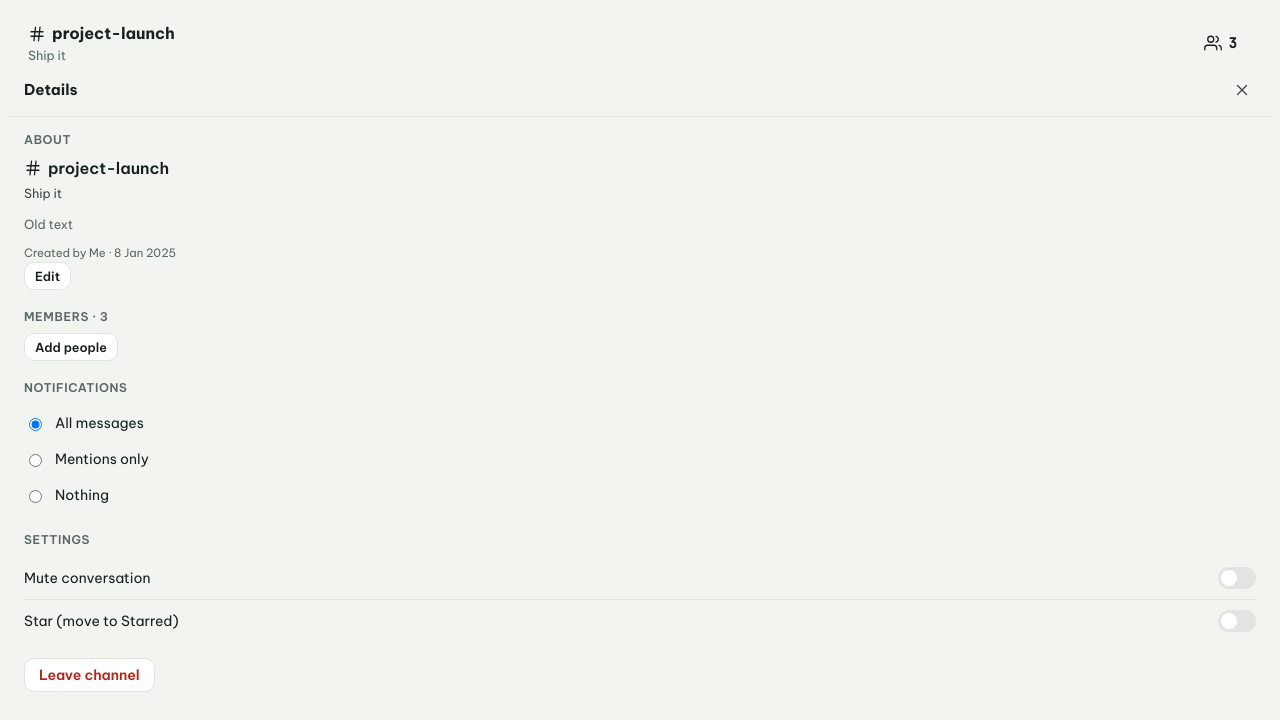
it: validation (R16) › white space only replaces a topic: sent as null
The width and height of the screenshot is (1280, 720).
Later steps or results of the test are not shown.
Click the button "Edit" at [48, 276], box [24, 262, 71, 290]
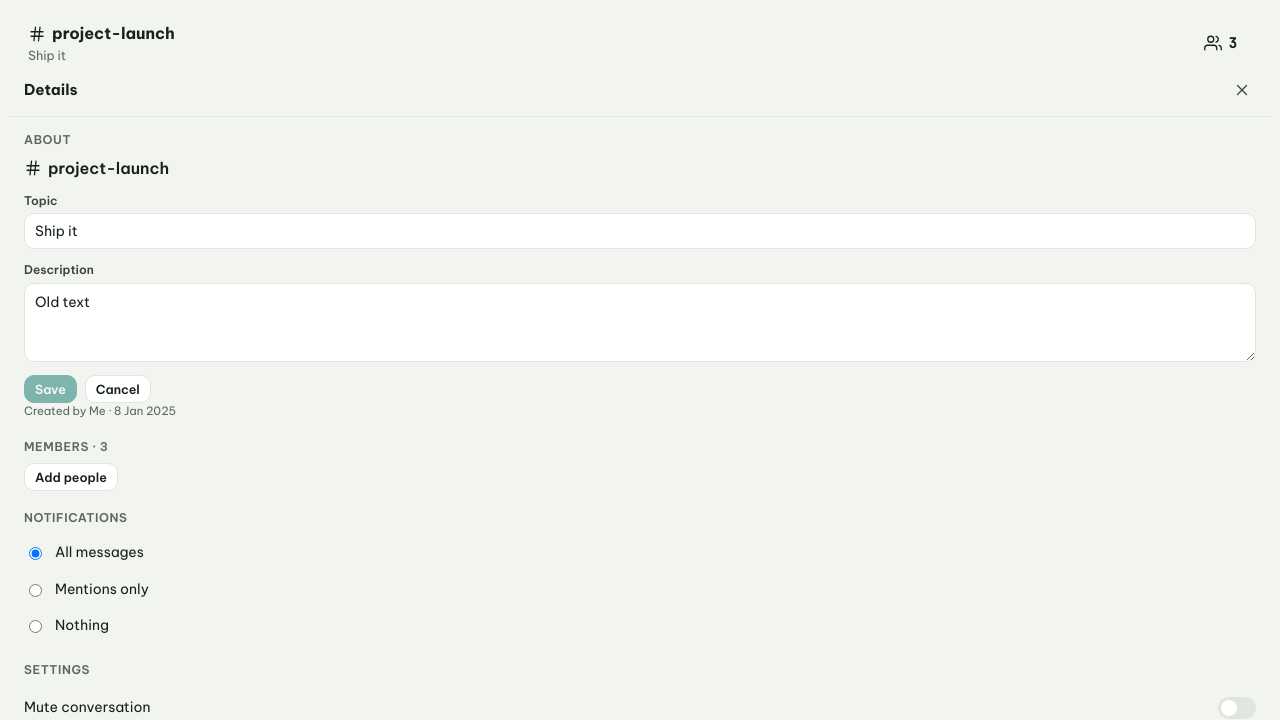
Clear the field labelled "Topic" at [640, 231], box [24, 213, 1256, 249]
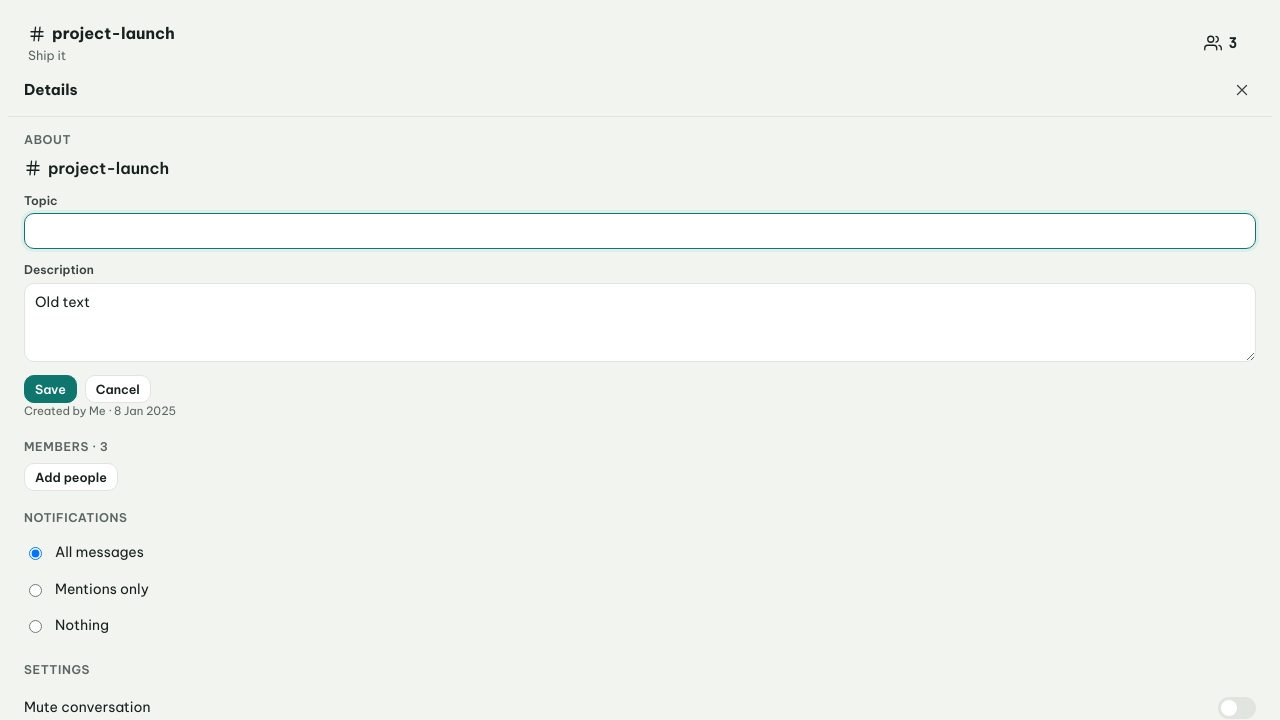
Click the field labelled "Topic" at [640, 231], box [24, 213, 1256, 249]
Type keys "   "
Now the button "Save" is enabled, box [24, 375, 77, 403]
